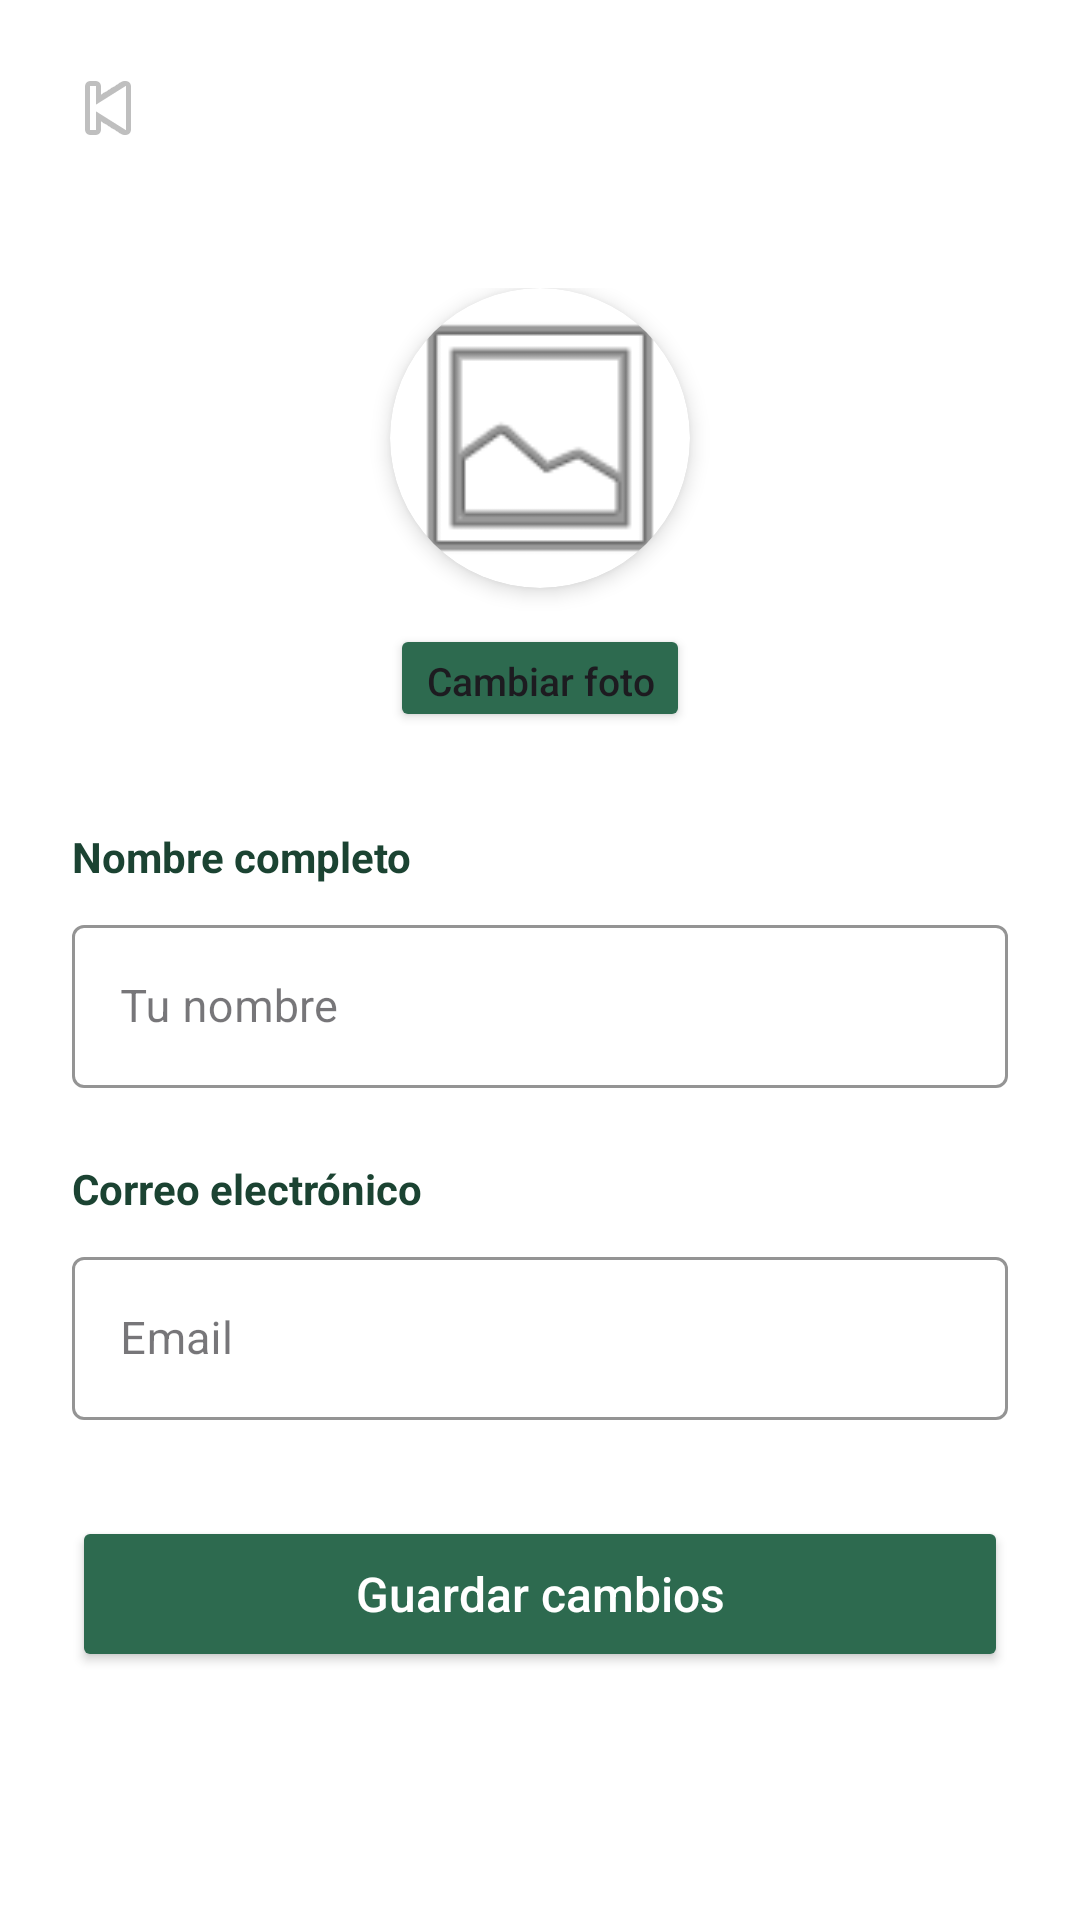

Named icons in this screenshot (1080w x 1920h) and their bounding boxes, (x1,y1,x2,y2):
gallery: (407,325,673,588)
Volver: (85,81,131,135)
